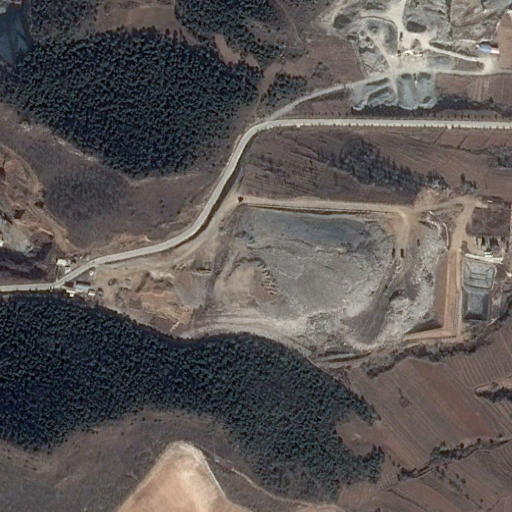lf: (85, 201, 462, 359)
